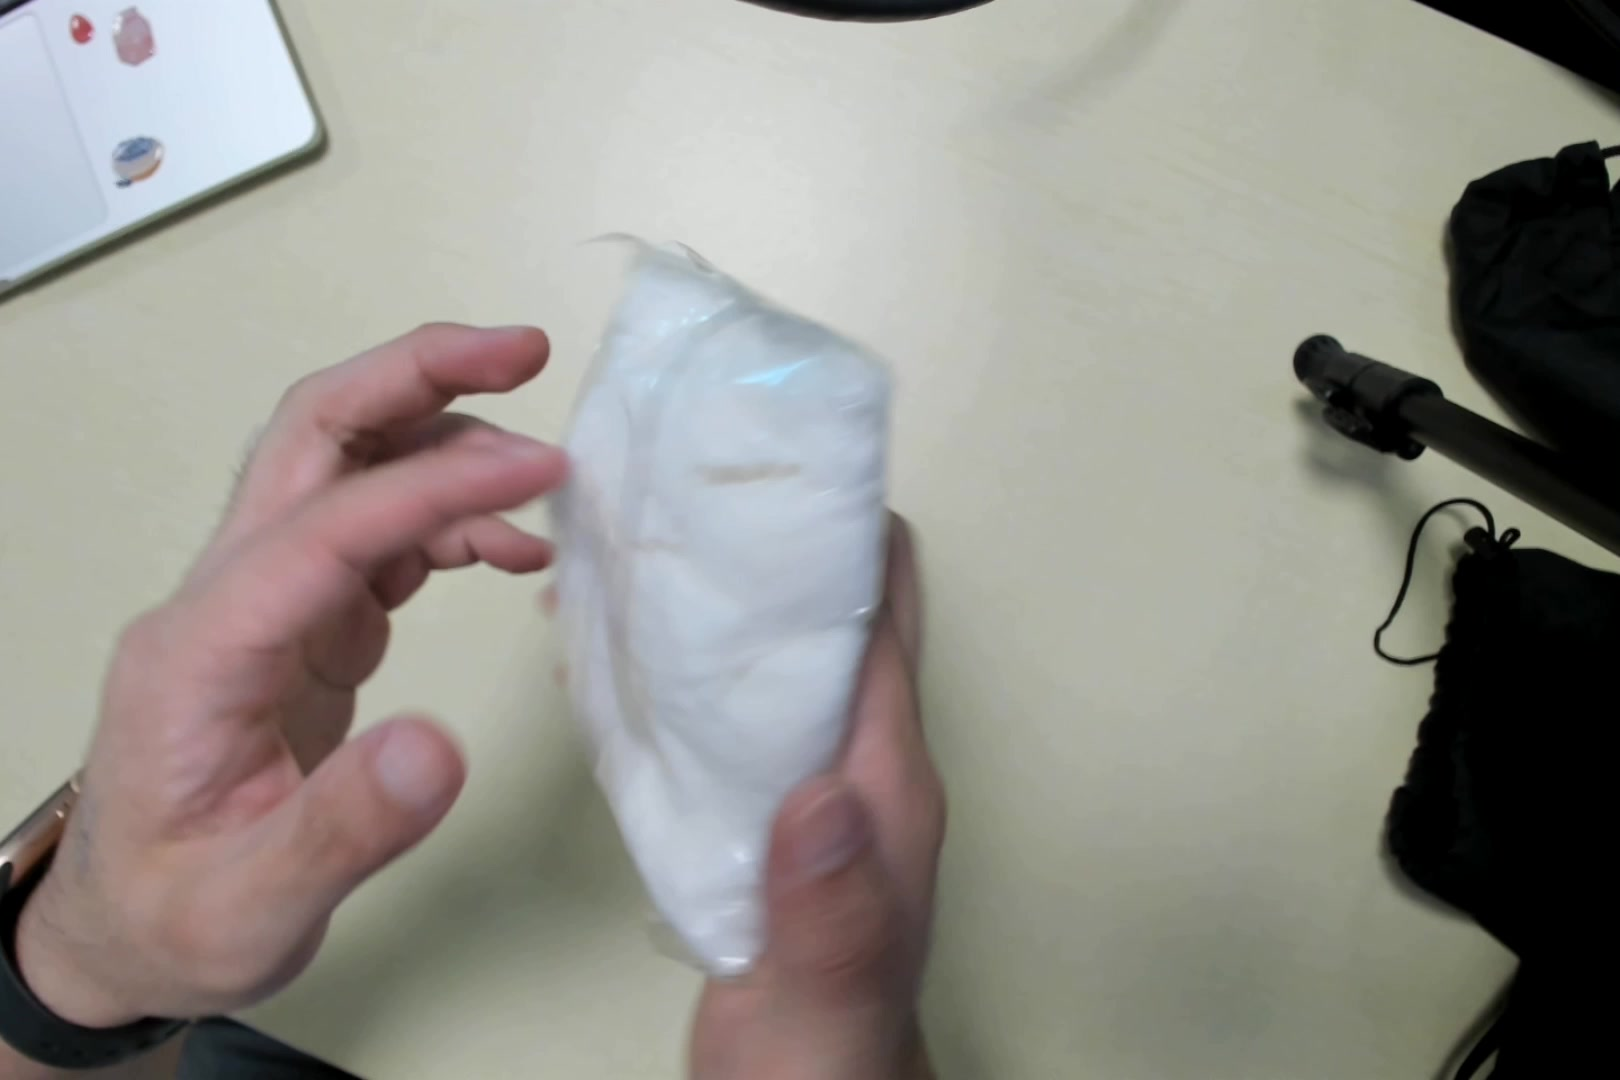Salt_200-299g_Halal_NonHealthy: (526, 216, 890, 972)
